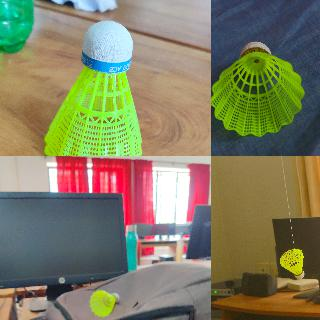shuttlecock: (43, 19, 143, 155), (211, 41, 304, 137), (89, 290, 119, 316), (280, 248, 304, 278)
